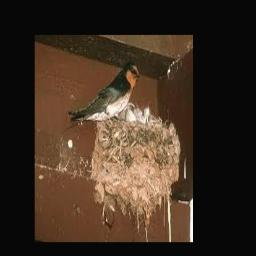Swallow: (69, 62, 140, 123)
